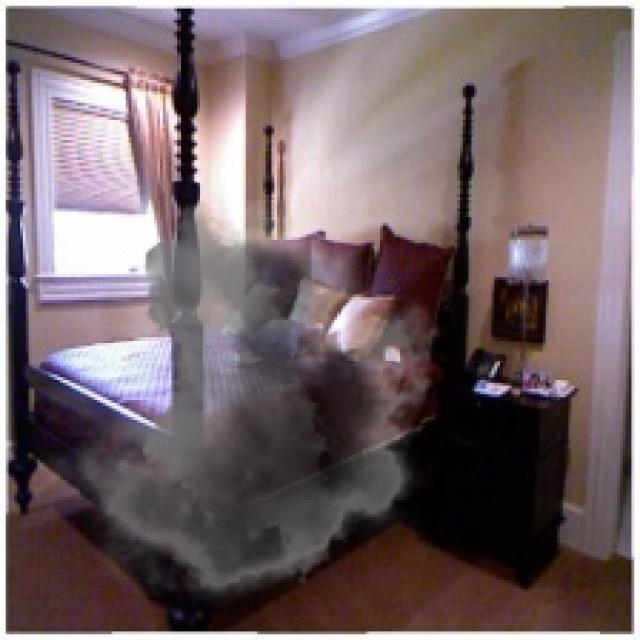Smoke: (32, 200, 454, 620)
